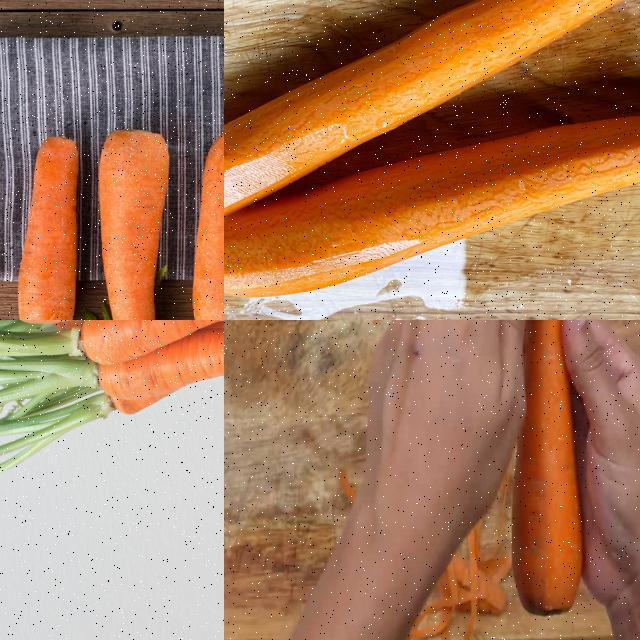carrot: (224, 0, 639, 225), (224, 107, 639, 302), (9, 320, 223, 421), (511, 320, 575, 619), (93, 126, 176, 319), (18, 131, 88, 319), (193, 128, 223, 319)
